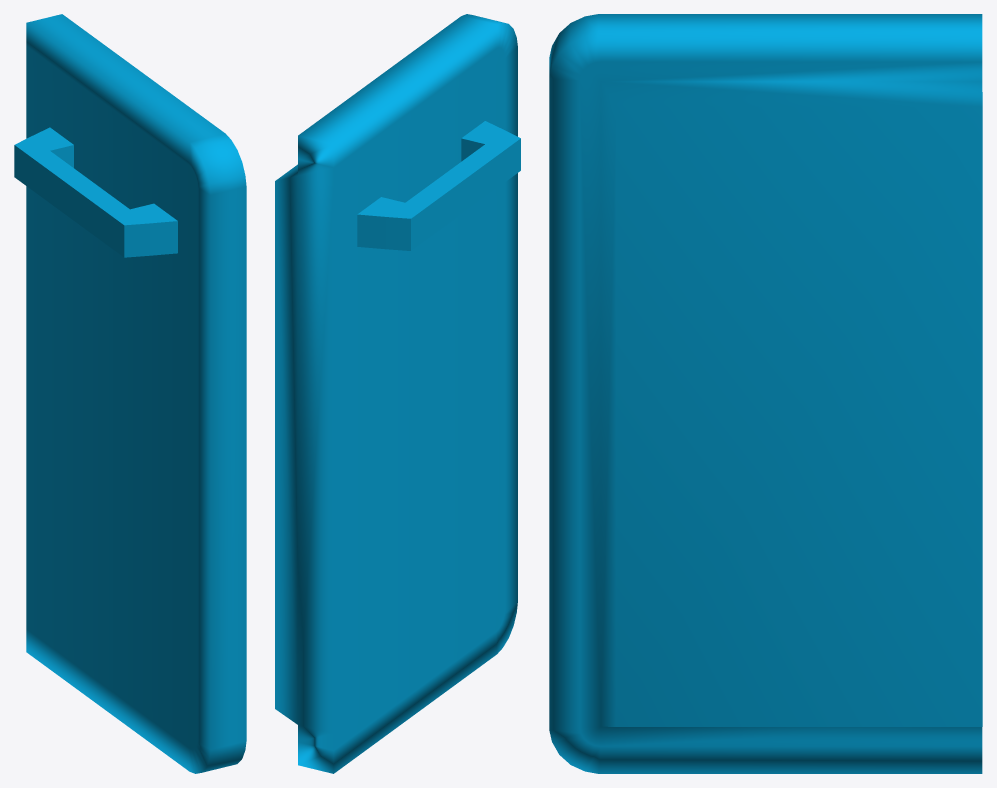
Rendered from Restaurant_Electric_Fryer_Door_02_Lod1.fbx.
The picture shows the model from 3 angles, left to right: view 1: azimuth 30°, elevation 25°; view 2: azimuth 150°, elevation 25°; view 3: azimuth 270°, elevation 25°; orthographic projection. The views are drawn at different scales.
Parts seen in each view (by area): view 1: Restaurant_Electric_Fryer_Door_02_Lod1; view 2: Restaurant_Electric_Fryer_Door_02_Lod1; view 3: Restaurant_Electric_Fryer_Door_02_Lod1.
Part boxes in pixels (x1,y1,x2,y2): Restaurant_Electric_Fryer_Door_02_Lod1: (14, 14, 246, 773); Restaurant_Electric_Fryer_Door_02_Lod1: (275, 14, 520, 773); Restaurant_Electric_Fryer_Door_02_Lod1: (549, 14, 982, 773).
Bounding box in the file's own units: 8.53 × 49.79 × 26.46.
